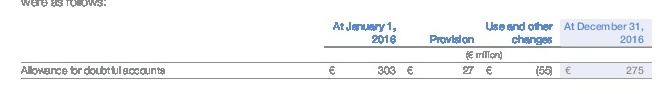table: (0, 0, 670, 94)
